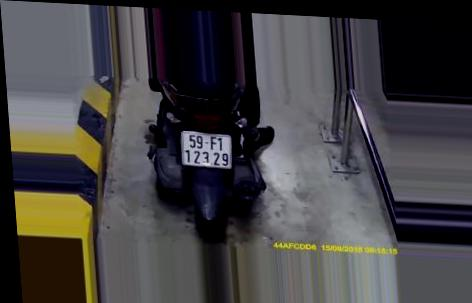License_Plate: (177, 129, 240, 175)
